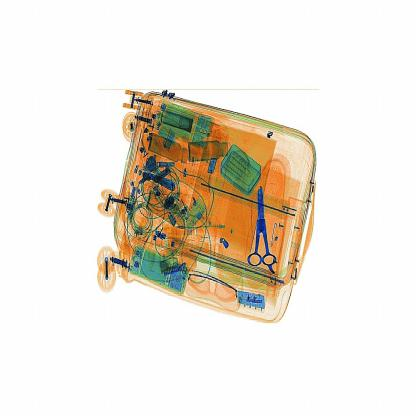gun: (247, 168, 290, 281)
